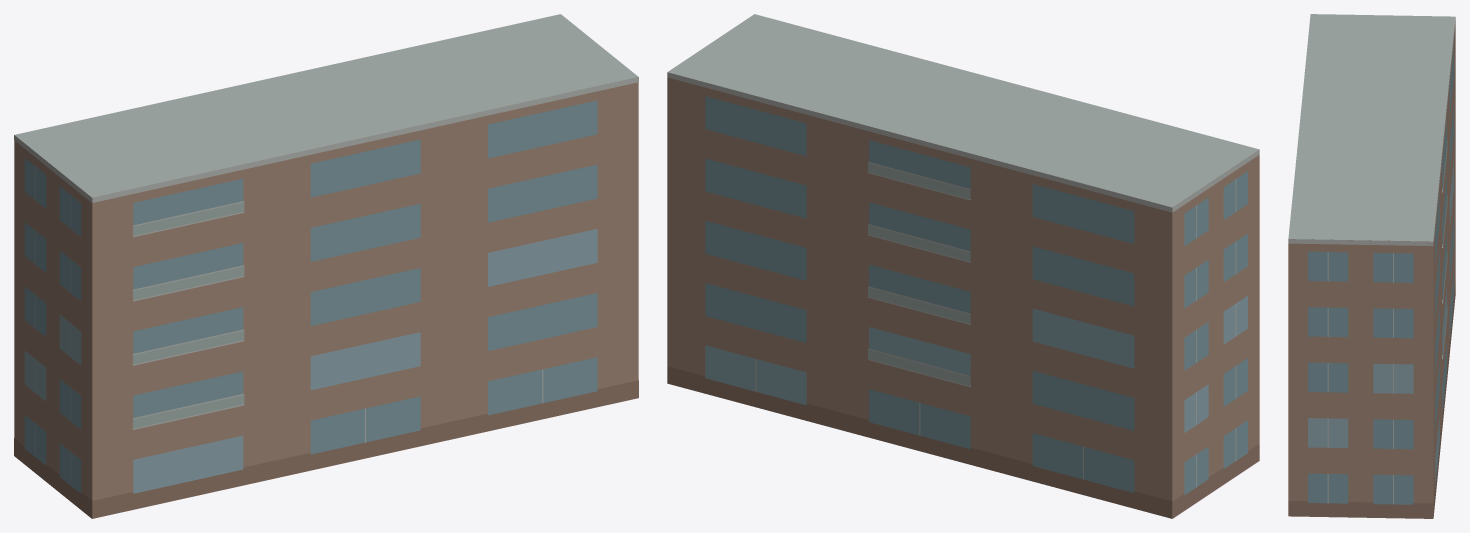
Rendered from survey-upis-32616737.glb.
3 renders of one model, left to right at view 1: azimuth 30°, elevation 25°; view 2: azimuth 150°, elevation 25°; view 3: azimuth 270°, elevation 25°, orthographic. The views are drawn at different scales.
Visible parts, largest first — view 1: survey-upis-32616737.tmp; view 2: survey-upis-32616737.tmp; view 3: survey-upis-32616737.tmp.
Boxes of the visible parts, left/top/right/bottom form: survey-upis-32616737.tmp: left=14, top=14, right=638, bottom=518; survey-upis-32616737.tmp: left=667, top=14, right=1259, bottom=518; survey-upis-32616737.tmp: left=1288, top=14, right=1455, bottom=518.
Size of the model in its own units: 26.05 by 14.8 by 8.1.
